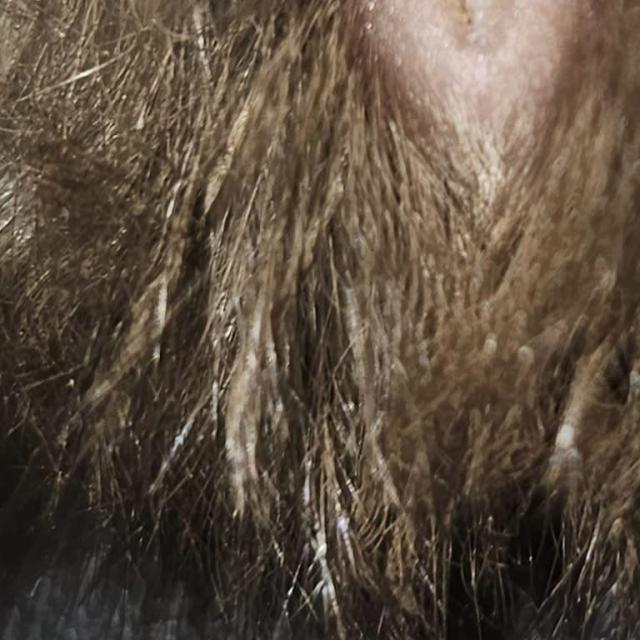fem: (331, 0, 625, 203)
